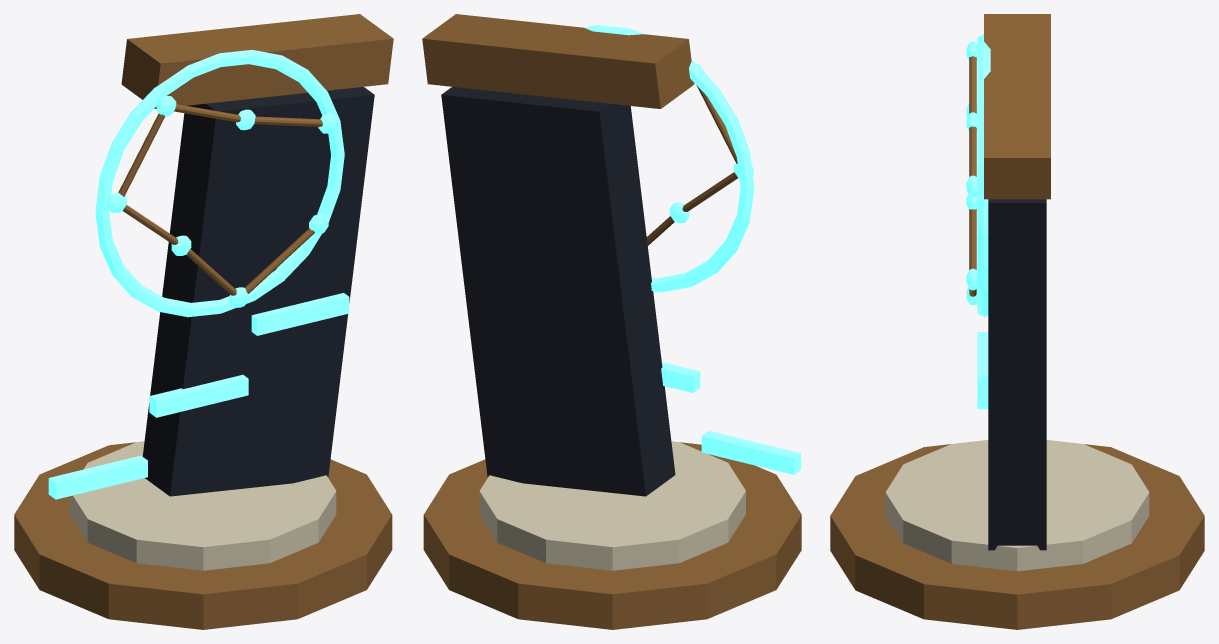
The model's file is runtime.glb.
3 renders of one model, left to right at view 1: azimuth 30°, elevation 25°; view 2: azimuth 150°, elevation 25°; view 3: azimuth 270°, elevation 25°, orthographic.
Parts seen in each view (by area): view 1: aetherion-zodiac-stele-v04_shaft_nocol, aetherion-zodiac-stele-v04_foot_nocol, aetherion-zodiac-stele-v04_plinth_nocol, aetherion-zodiac-stele-v04_shoulder_nocol, aetherion-zodiac-stele-v04_primary_orbit_nocol, aetherion-zodiac-stele-v04_rise_0_nocol, aetherion-zodiac-stele-v04_rise_1_nocol, aetherion-zodiac-stele-v04_rise_2_nocol, aetherion-zodiac-stele-v04_constellation_link_02_nocol, aetherion-zodiac-stele-v04_constellation_link_05_nocol, aetherion-zodiac-stele-v04_constellation_link_00_nocol, aetherion-zodiac-stele-v04_constellation_link_01_nocol; view 2: aetherion-zodiac-stele-v04_shaft_nocol, aetherion-zodiac-stele-v04_foot_nocol, aetherion-zodiac-stele-v04_plinth_nocol, aetherion-zodiac-stele-v04_shoulder_nocol, aetherion-zodiac-stele-v04_primary_orbit_nocol, aetherion-zodiac-stele-v04_rise_0_nocol, aetherion-zodiac-stele-v04_rise_1_nocol; view 3: aetherion-zodiac-stele-v04_foot_nocol, aetherion-zodiac-stele-v04_plinth_nocol, aetherion-zodiac-stele-v04_shaft_nocol, aetherion-zodiac-stele-v04_shoulder_nocol, aetherion-zodiac-stele-v04_primary_orbit_nocol, aetherion-zodiac-stele-v04_rise_2_nocol.
Boxes of the visible parts, box(x1,y1,x2,y2) form: aetherion-zodiac-stele-v04_shaft_nocol: box(142, 87, 374, 496); aetherion-zodiac-stele-v04_foot_nocol: box(14, 442, 392, 629); aetherion-zodiac-stele-v04_plinth_nocol: box(70, 441, 336, 570); aetherion-zodiac-stele-v04_shoulder_nocol: box(121, 14, 393, 108); aetherion-zodiac-stele-v04_primary_orbit_nocol: box(95, 49, 344, 317); aetherion-zodiac-stele-v04_rise_0_nocol: box(48, 455, 147, 499); aetherion-zodiac-stele-v04_rise_1_nocol: box(149, 374, 248, 417); aetherion-zodiac-stele-v04_rise_2_nocol: box(251, 293, 349, 335); aetherion-zodiac-stele-v04_constellation_link_02_nocol: box(118, 113, 165, 196); aetherion-zodiac-stele-v04_constellation_link_05_nocol: box(245, 228, 314, 293); aetherion-zodiac-stele-v04_constellation_link_00_nocol: box(254, 116, 322, 126); aetherion-zodiac-stele-v04_constellation_link_01_nocol: box(174, 104, 240, 122); aetherion-zodiac-stele-v04_shaft_nocol: box(441, 87, 675, 496); aetherion-zodiac-stele-v04_foot_nocol: box(423, 442, 801, 629); aetherion-zodiac-stele-v04_plinth_nocol: box(479, 441, 745, 570); aetherion-zodiac-stele-v04_shoulder_nocol: box(422, 14, 694, 108); aetherion-zodiac-stele-v04_primary_orbit_nocol: box(584, 25, 753, 292); aetherion-zodiac-stele-v04_rise_0_nocol: box(701, 431, 800, 474); aetherion-zodiac-stele-v04_rise_1_nocol: box(661, 362, 700, 392); aetherion-zodiac-stele-v04_foot_nocol: box(830, 444, 1204, 629); aetherion-zodiac-stele-v04_plinth_nocol: box(885, 440, 1149, 571); aetherion-zodiac-stele-v04_shaft_nocol: box(988, 199, 1046, 550); aetherion-zodiac-stele-v04_shoulder_nocol: box(984, 14, 1050, 199); aetherion-zodiac-stele-v04_primary_orbit_nocol: box(977, 34, 990, 317); aetherion-zodiac-stele-v04_rise_2_nocol: box(977, 332, 988, 392).
Size of the model in its own units: 5.62 by 8.06 by 5.38.
